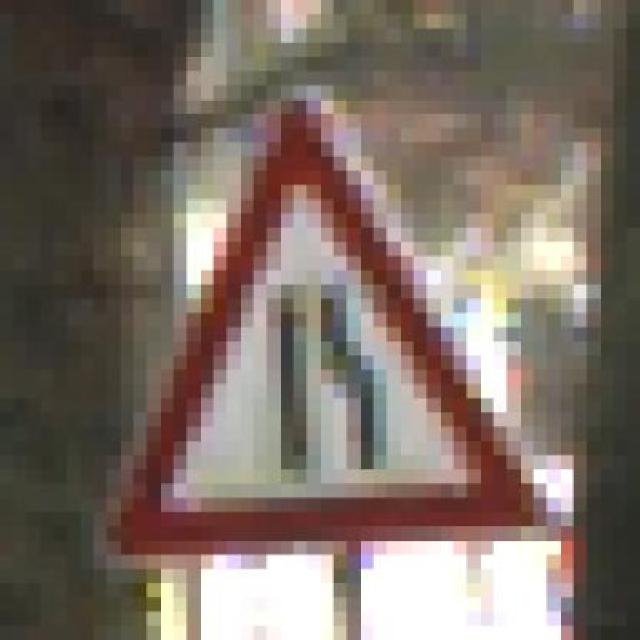-Road narrows on right: (80, 85, 560, 569)
